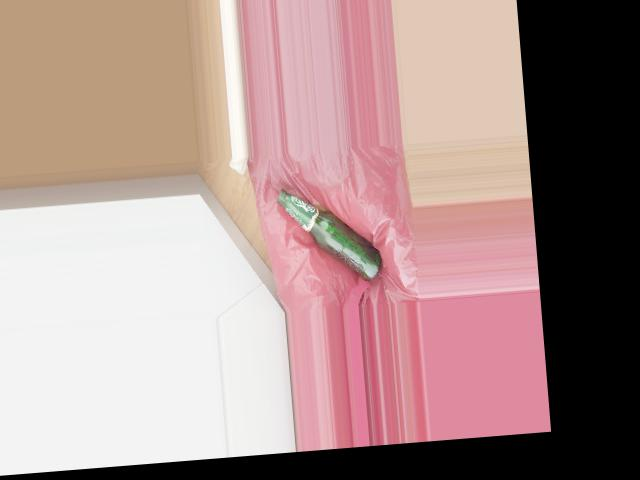beer: (276, 180, 383, 286)
